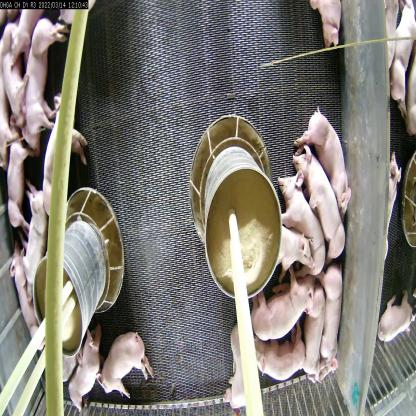Pig: (299, 102, 355, 222), (290, 141, 345, 260), (23, 16, 73, 140), (41, 86, 83, 220), (279, 165, 325, 274), (97, 322, 156, 403), (246, 274, 312, 337), (1, 244, 37, 352), (62, 329, 104, 411), (15, 188, 48, 285), (0, 29, 35, 118), (249, 331, 308, 383), (3, 144, 36, 233), (316, 262, 342, 370), (298, 279, 324, 374), (277, 216, 312, 280), (227, 320, 250, 415)
